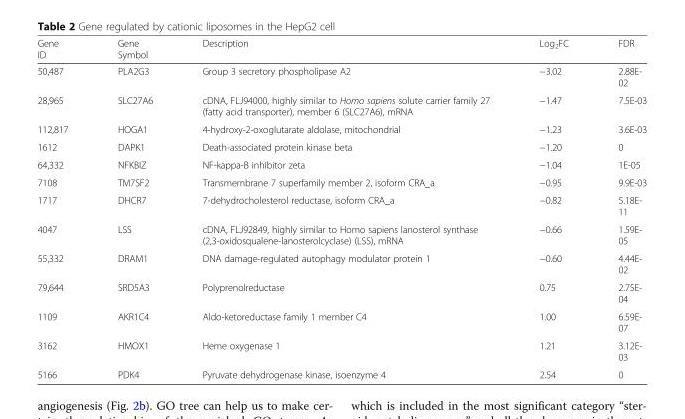table: (36, 37, 646, 379)
table column: (176, 37, 513, 379), (92, 37, 176, 379), (513, 37, 592, 379), (36, 37, 92, 379), (592, 37, 646, 379)
table column header: (36, 37, 646, 62)
table row: (36, 248, 646, 278), (36, 90, 646, 119), (36, 190, 646, 219), (36, 219, 646, 248), (36, 278, 646, 307), (36, 307, 646, 336), (36, 336, 646, 365), (36, 62, 646, 90), (36, 37, 646, 62), (36, 119, 646, 137), (36, 137, 646, 155), (36, 172, 646, 190), (36, 155, 646, 172), (36, 365, 646, 379)
